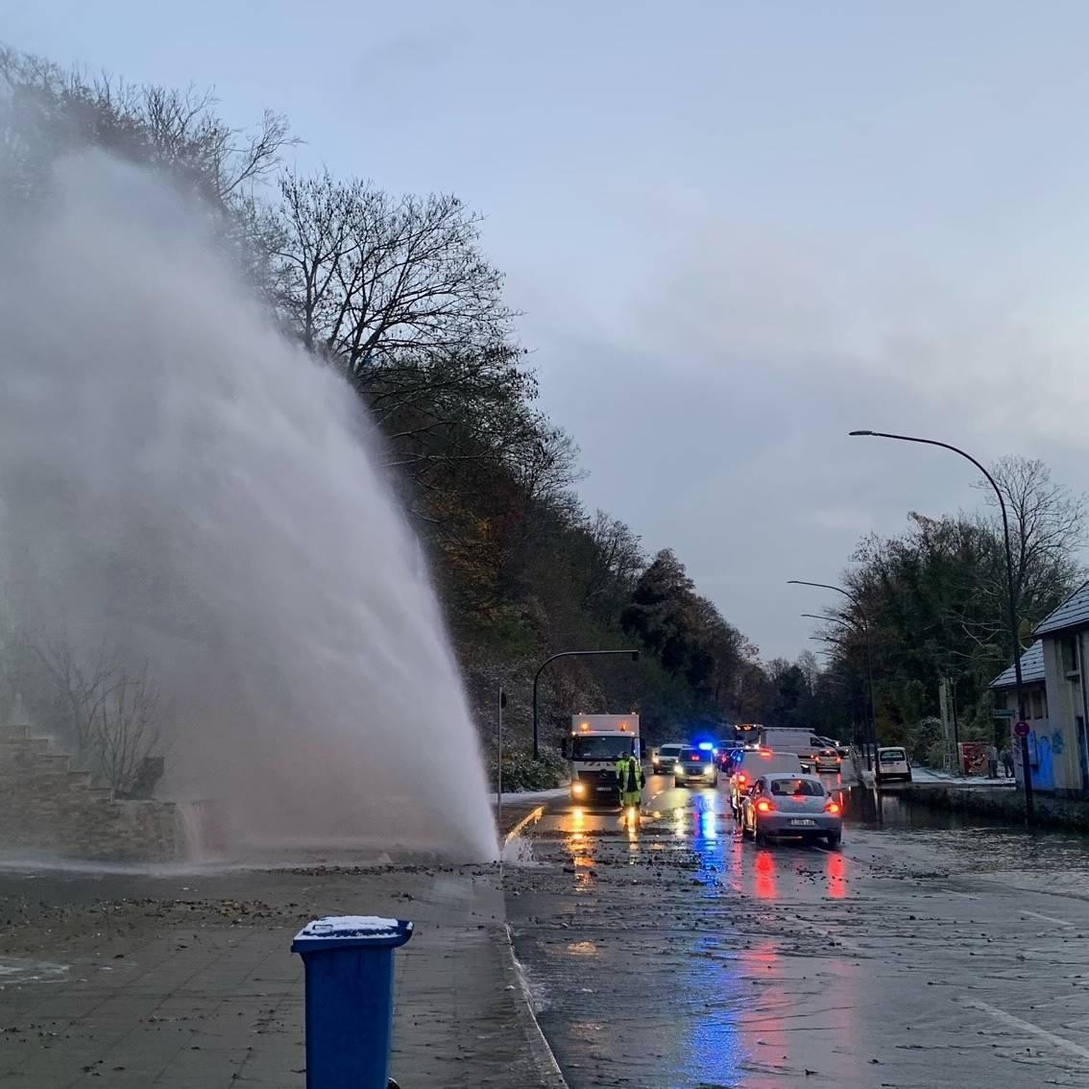pipe burst: (0, 112, 511, 866)
water accumulation: (820, 788, 1042, 834)
